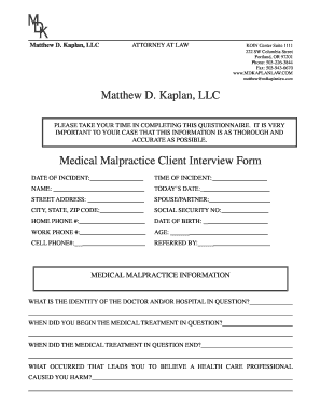textline: (25, 385, 299, 398), (24, 329, 295, 342), (27, 351, 296, 363), (24, 310, 296, 319), (92, 373, 297, 383), (198, 239, 274, 252), (169, 228, 269, 237), (53, 186, 147, 194), (80, 230, 148, 241), (223, 321, 297, 330), (202, 343, 295, 350), (75, 240, 147, 249), (80, 219, 148, 228), (89, 172, 148, 182), (202, 186, 272, 194), (211, 174, 273, 183), (208, 198, 275, 206), (202, 217, 269, 225), (85, 197, 145, 205), (249, 297, 297, 306), (220, 209, 272, 216), (100, 209, 145, 217)
